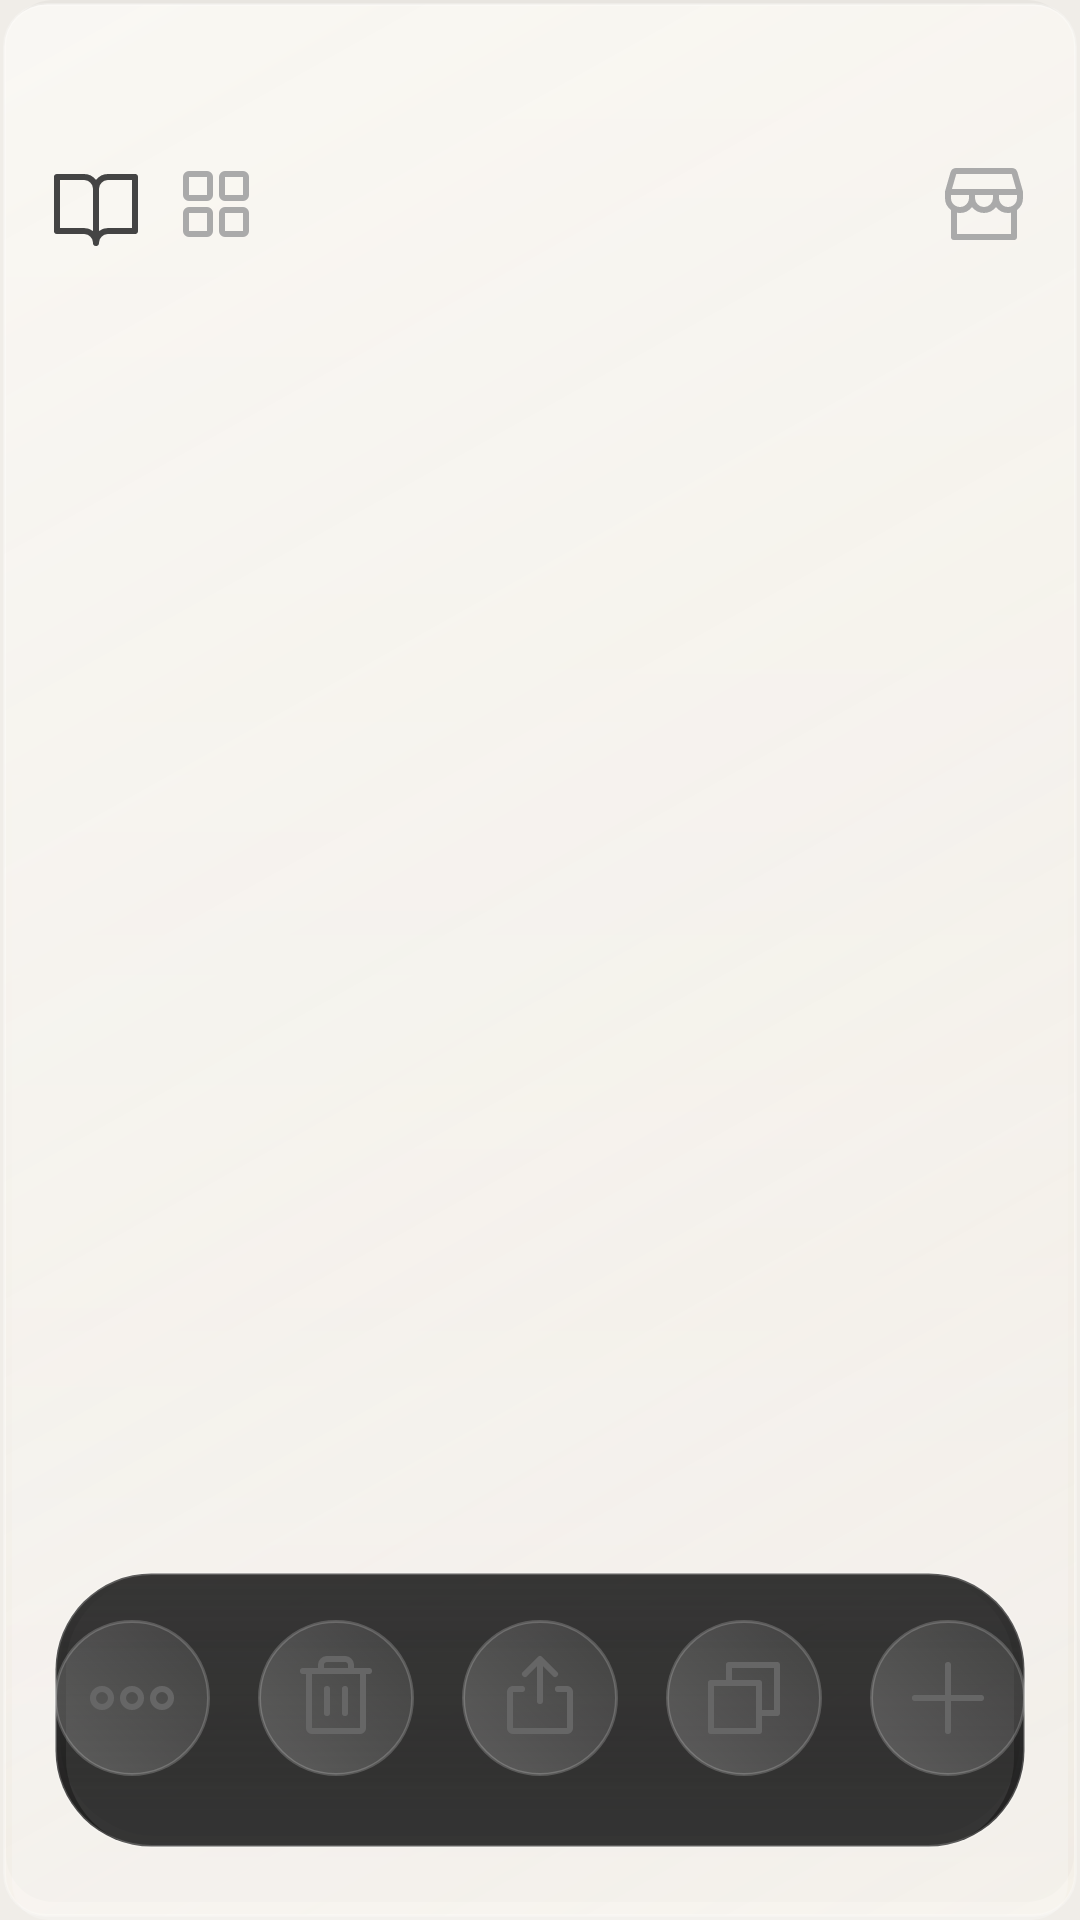

Named icons in this screenshot (1080 x 1920) and their bounding boxes, (x1,y1,x2,y2):
add: (870,1620,1026,1776)
book open: (54,174,138,246)
delete: (258,1620,414,1776)
grid: (183,171,249,237)
paper store: (945,168,1023,240)
share: (462,1620,618,1776)
